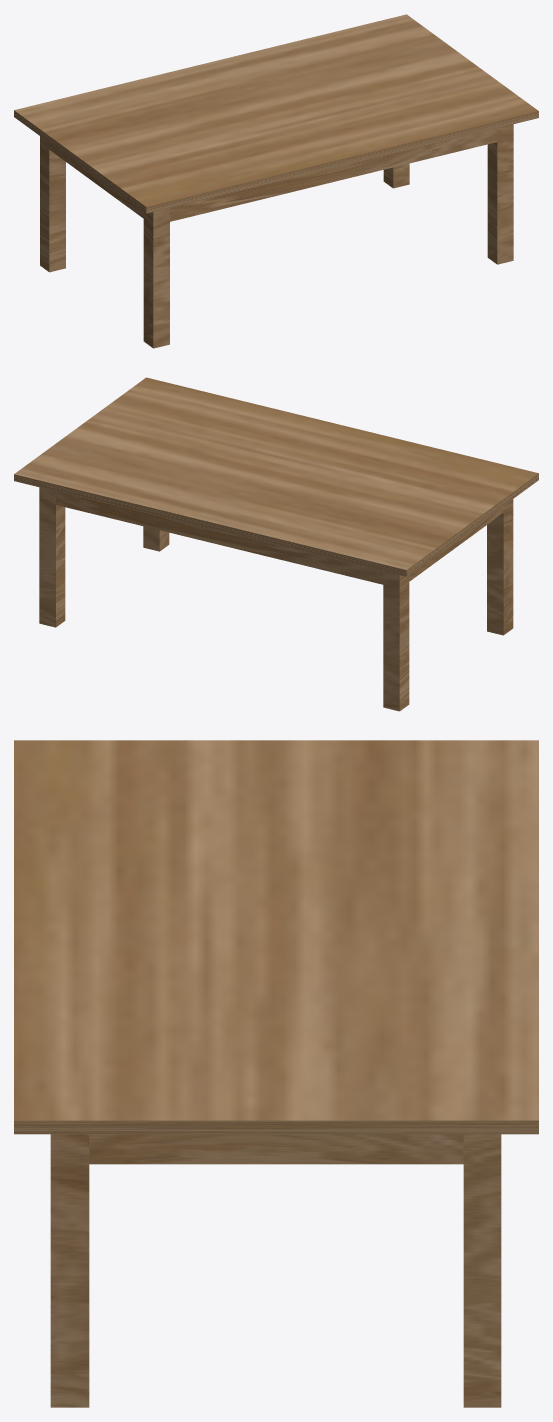
The model's file is meja.glb.
3 renders of one model, top to bottom at view 1: azimuth 30°, elevation 25°; view 2: azimuth 150°, elevation 25°; view 3: azimuth 270°, elevation 25°, orthographic. The views are drawn at different scales.
Parts seen in each view (by area): view 1: Cube; view 2: Cube; view 3: Cube.
Part boxes in pixels (box(x1,y1,x2,y2)): Cube: box(14, 14, 538, 348); Cube: box(14, 377, 538, 711); Cube: box(14, 740, 538, 1407).
Bounding box in the file's own units: 2.4 × 0.89 × 1.4.
Materials: 1 (1 with a texture image).
